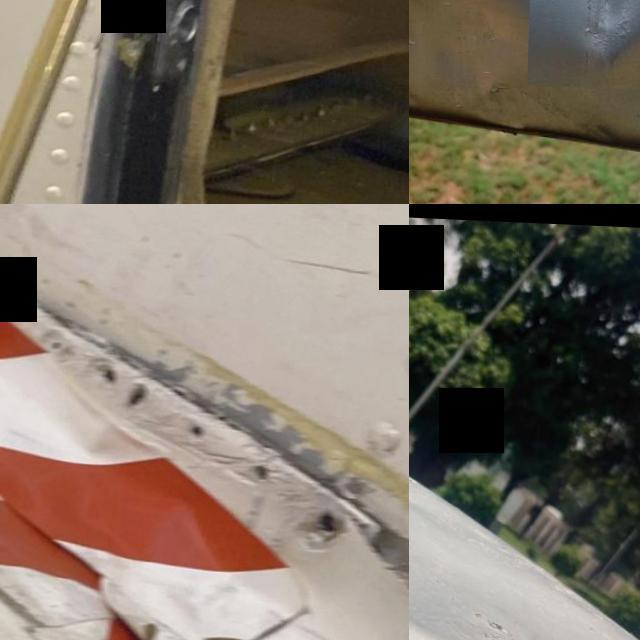Crack: (320, 477, 409, 630)
Dent: (409, 399, 563, 640), (529, 0, 640, 87)
